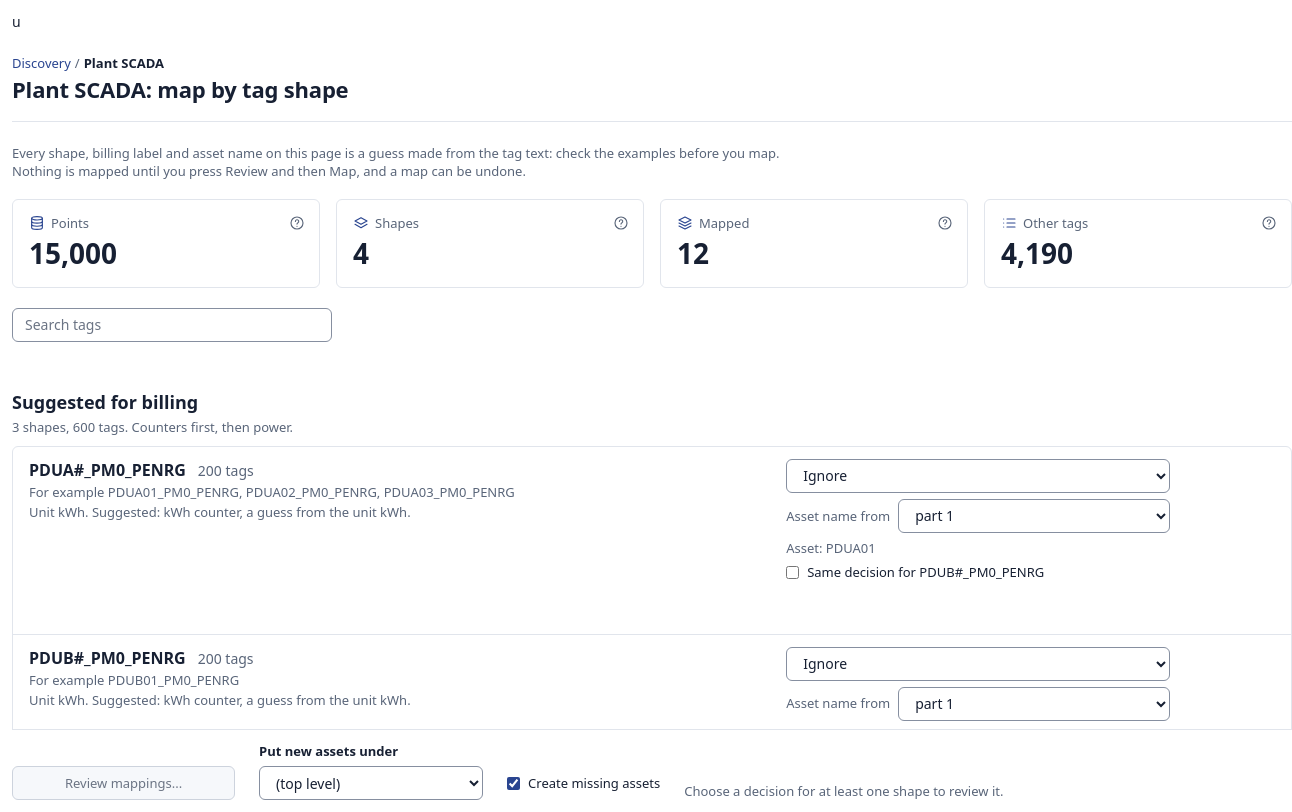
Test: SourceShapesPage: the search › says when nothing matches
Expected: the heading "Plant SCADA: map by tag shape" is shown, top-left (12, 74), bottom-right (348, 104)
Expected: the element named "Shape PDUA#_PM0_PENRG" is shown, top-left (13, 447), bottom-right (1291, 635)
Step 1. Type "zzz" into the search field labelled "Search tags" → x=172, y=325, box top-left (12, 308), bottom-right (332, 342)
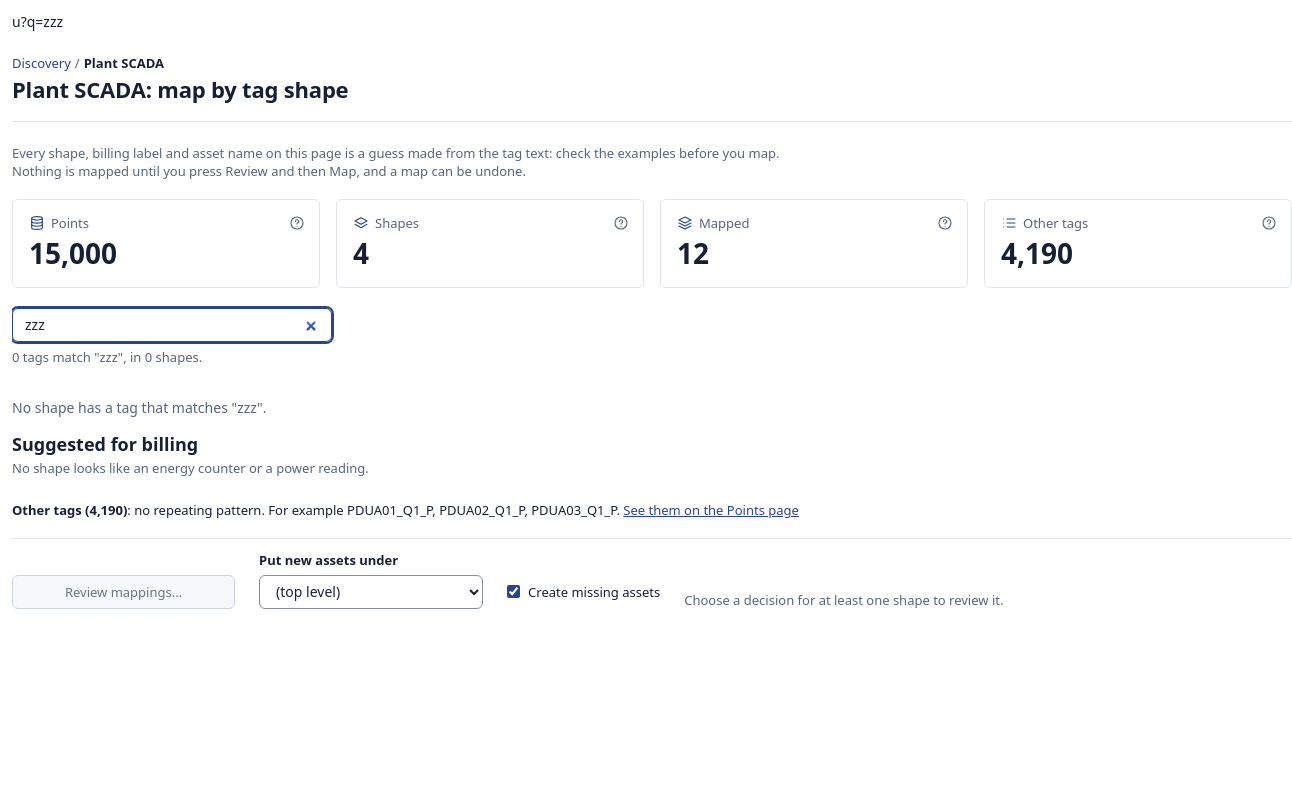
Now the text "No shape has a tag that matches \"zzz\"." is shown, box top-left (12, 398), bottom-right (266, 417)
